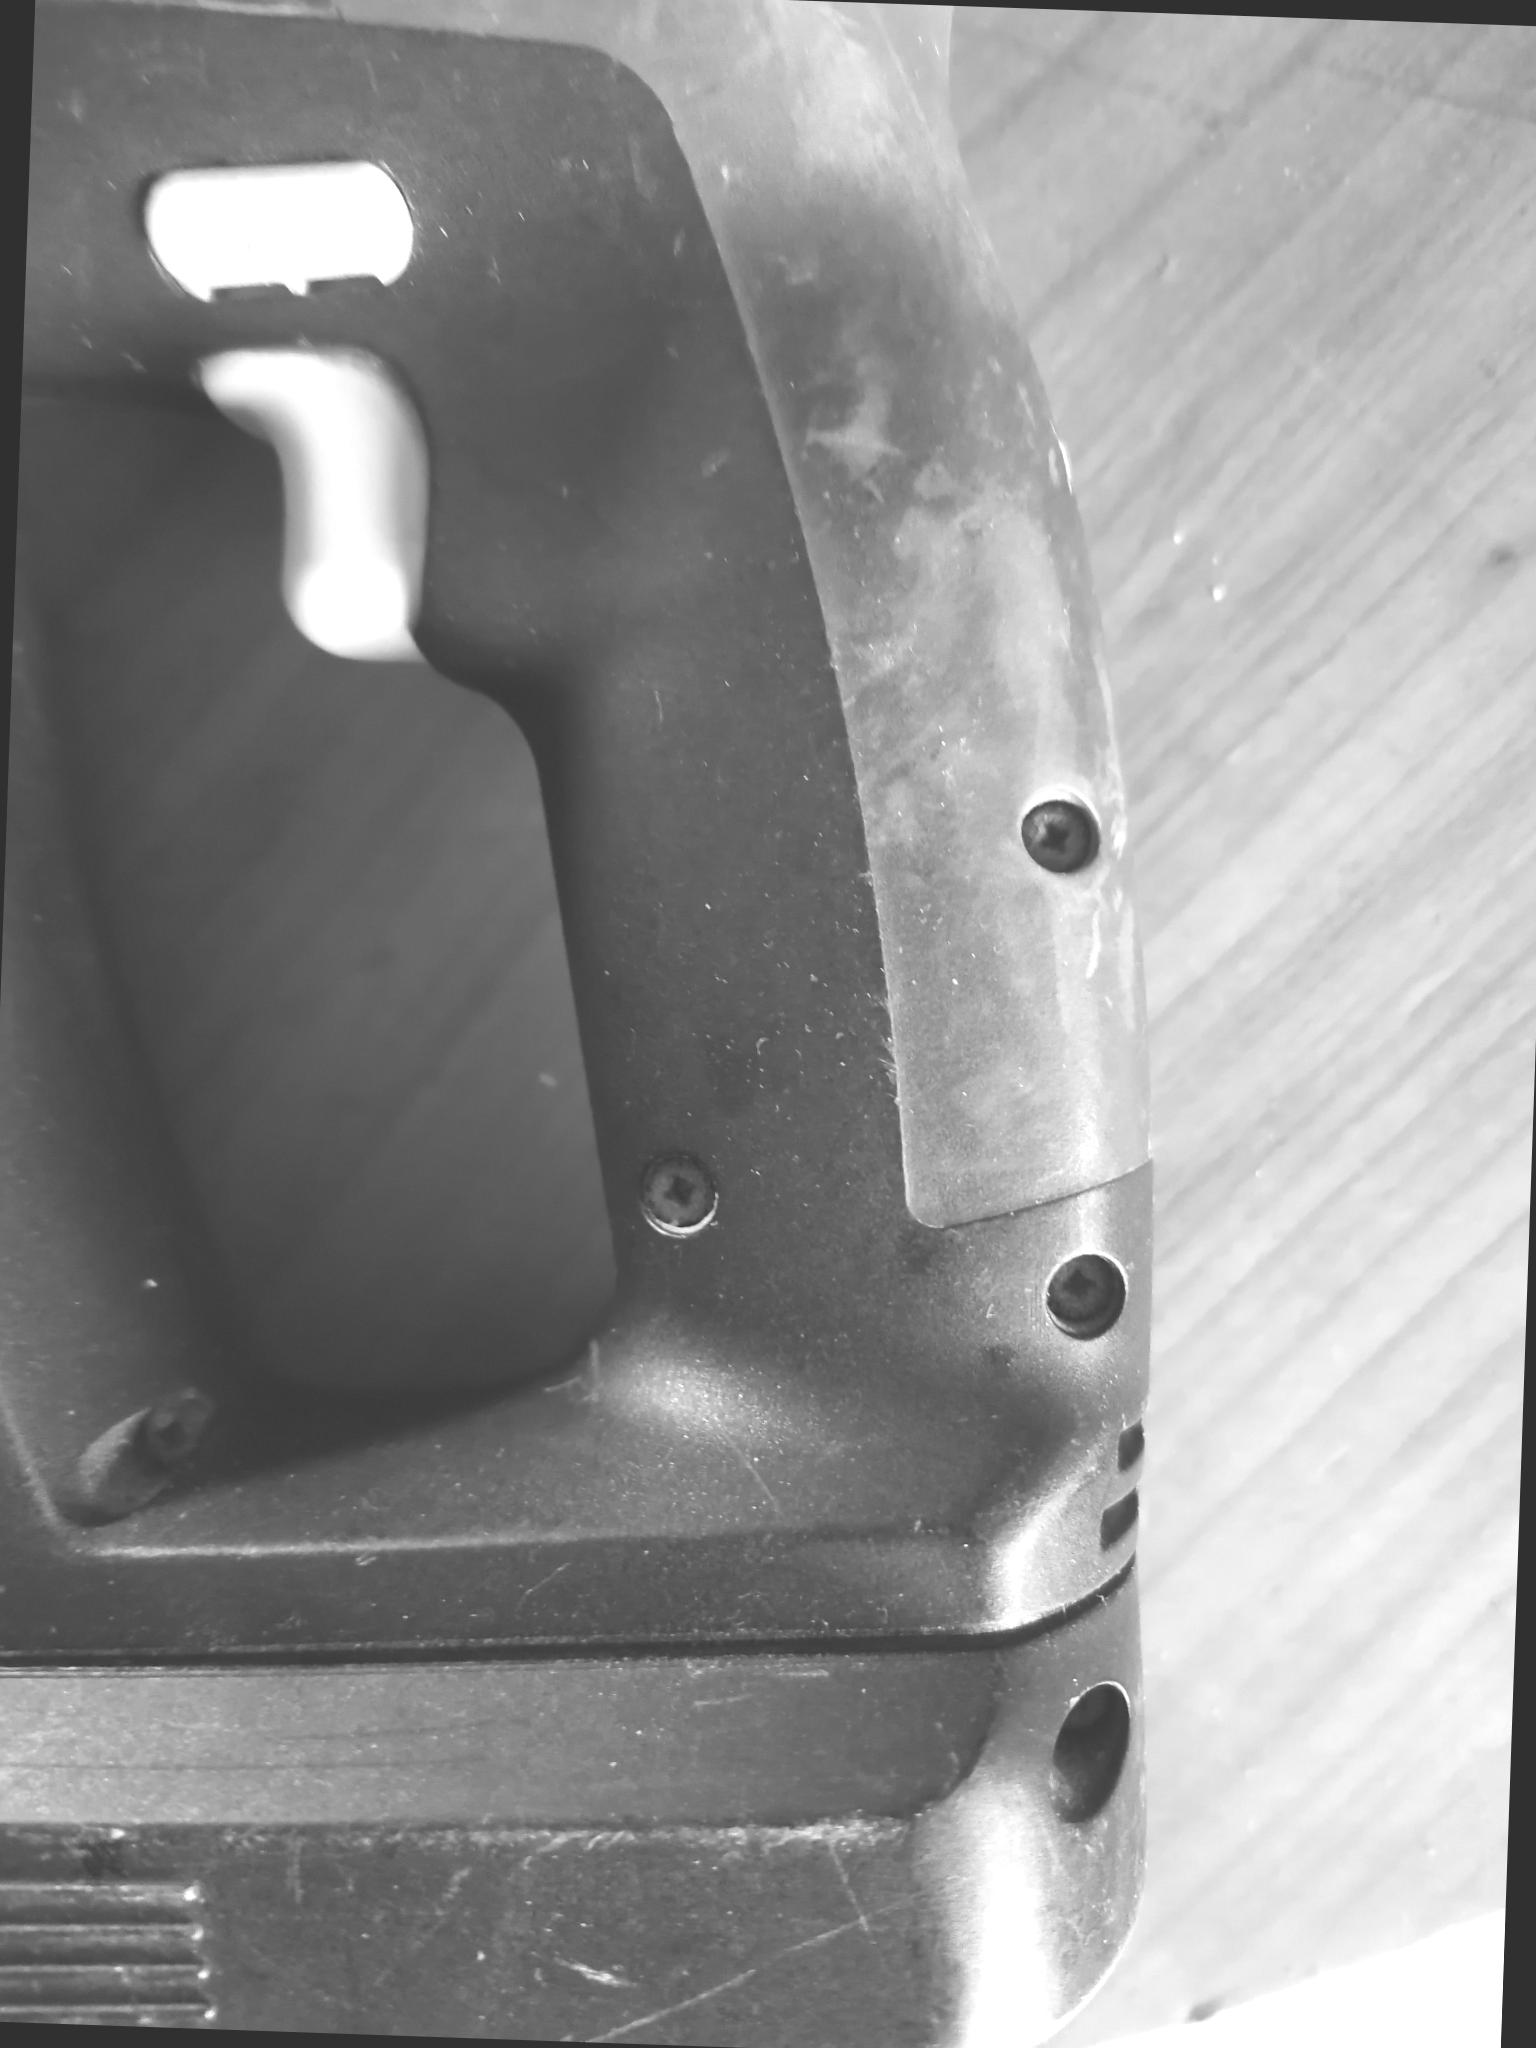screw: (1041, 1247, 1136, 1343), (1013, 789, 1107, 884), (629, 1148, 721, 1237)
